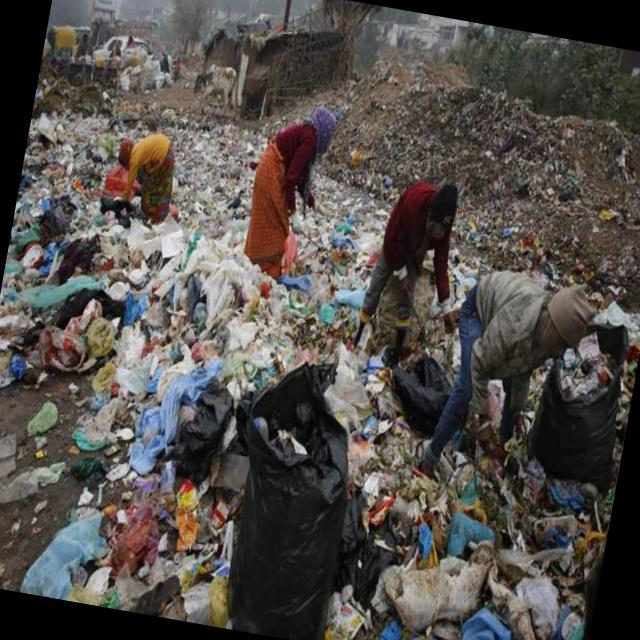garbage: (0, 79, 631, 639), (194, 124, 393, 370)
